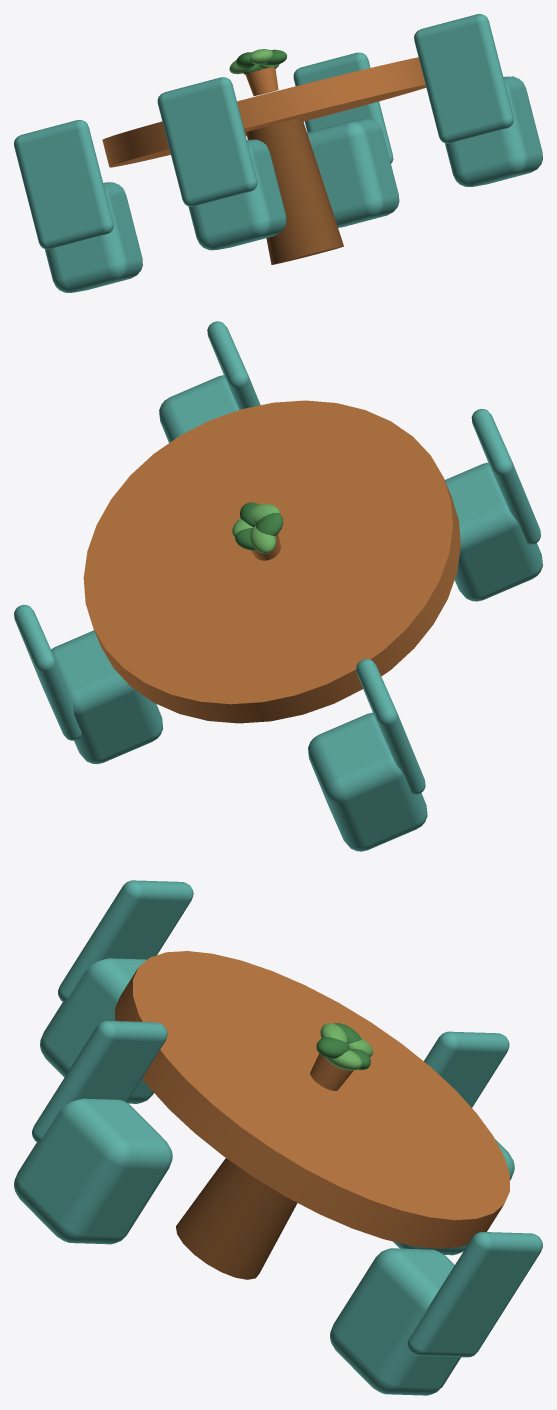
Rendered from round-table.glb.
3 renders of one model, top to bottom at view 1: azimuth 30°, elevation 25°; view 2: azimuth 150°, elevation 25°; view 3: azimuth 270°, elevation 25°, orthographic. The views are drawn at different scales.
Bounding box in the file's own units: 1.41 × 1.16 × 1.4.
